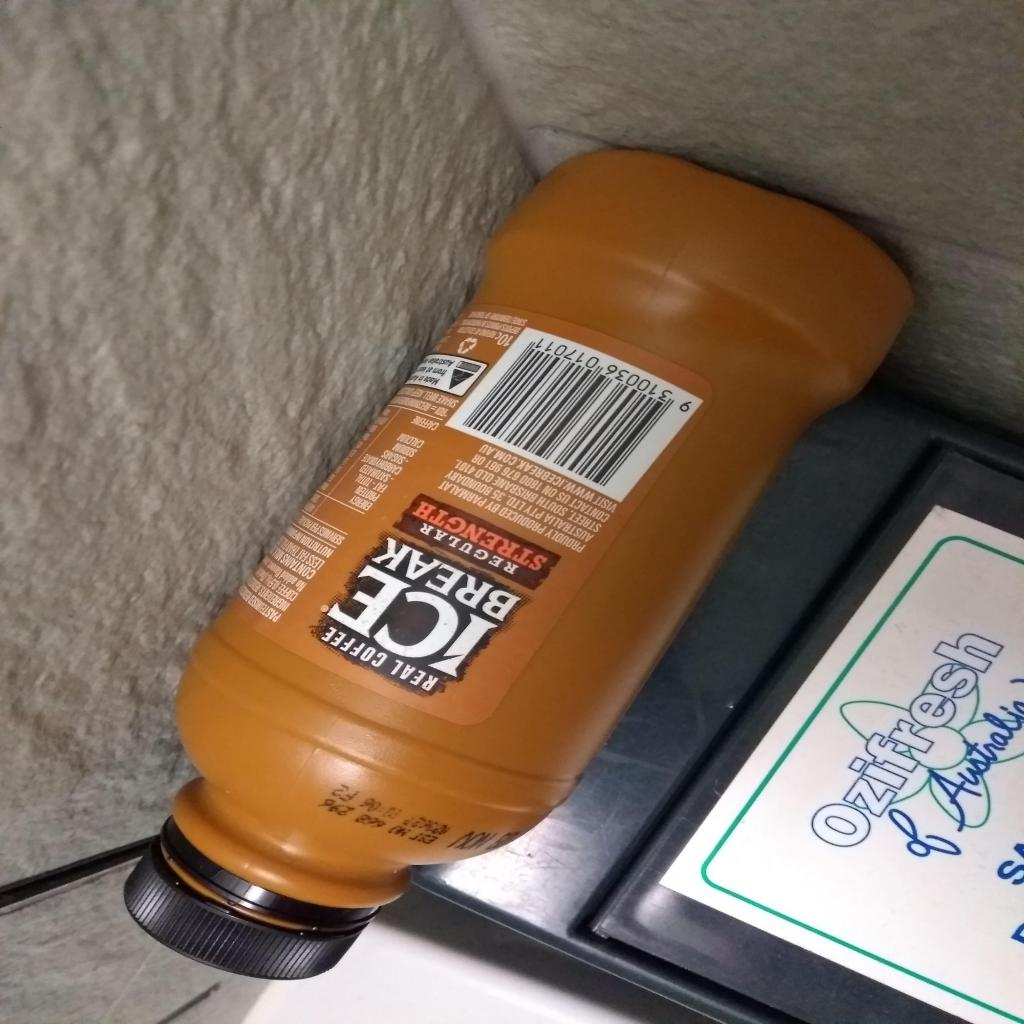Other plastic container: (123, 150, 912, 982)
Plastic bottle cap: (122, 834, 370, 982)
